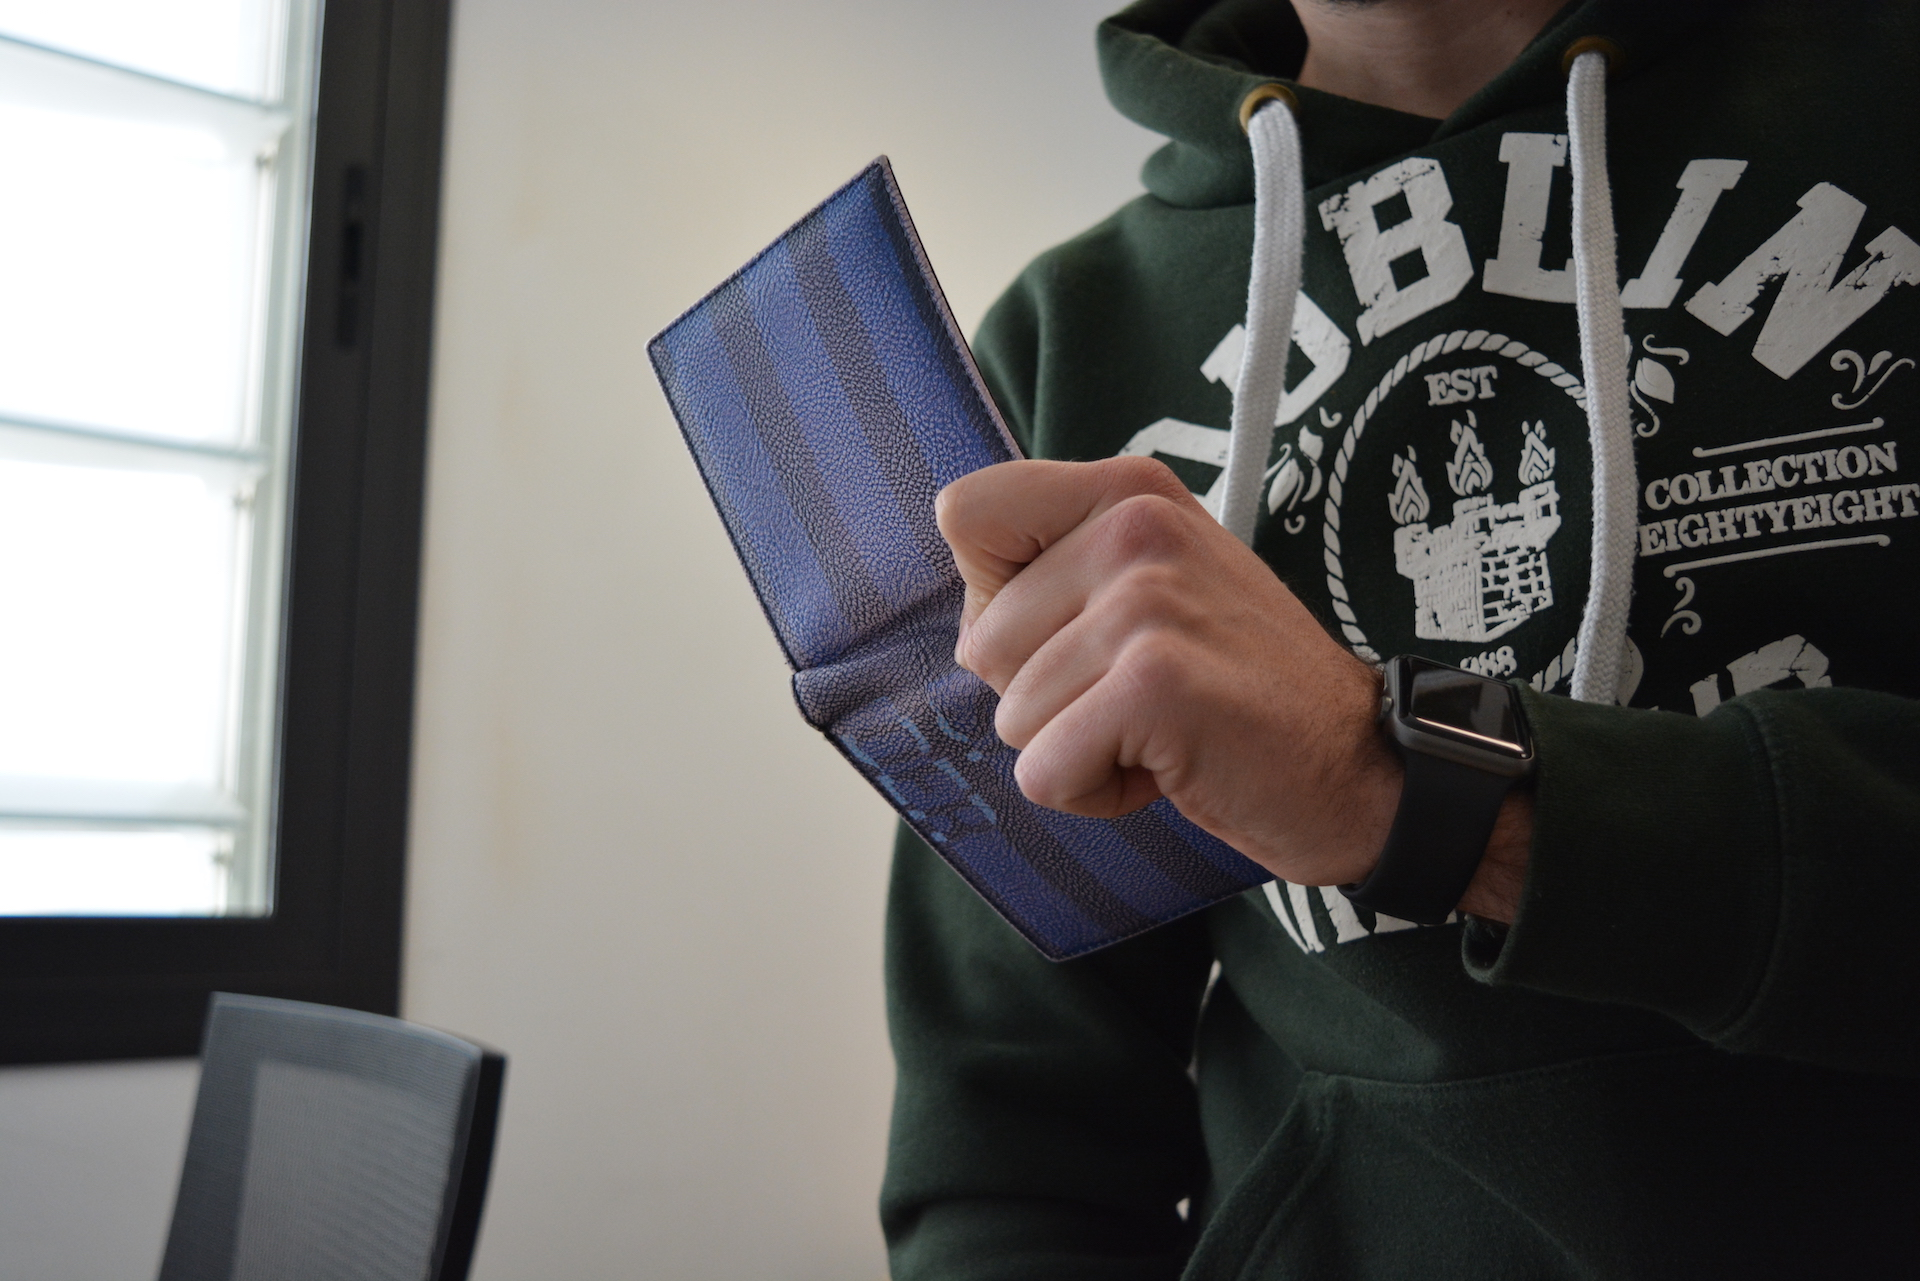monedero: (643, 150, 1284, 966)
